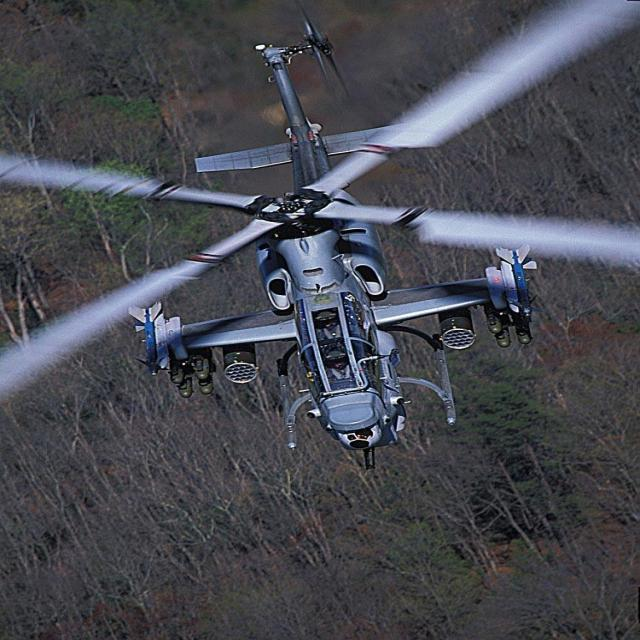MIL_HELO: (0, 0, 640, 469)
